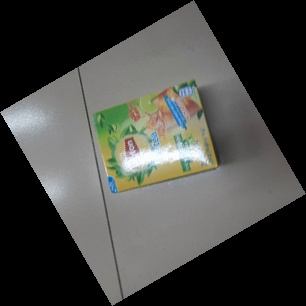LipTon: (88, 79, 220, 199)
